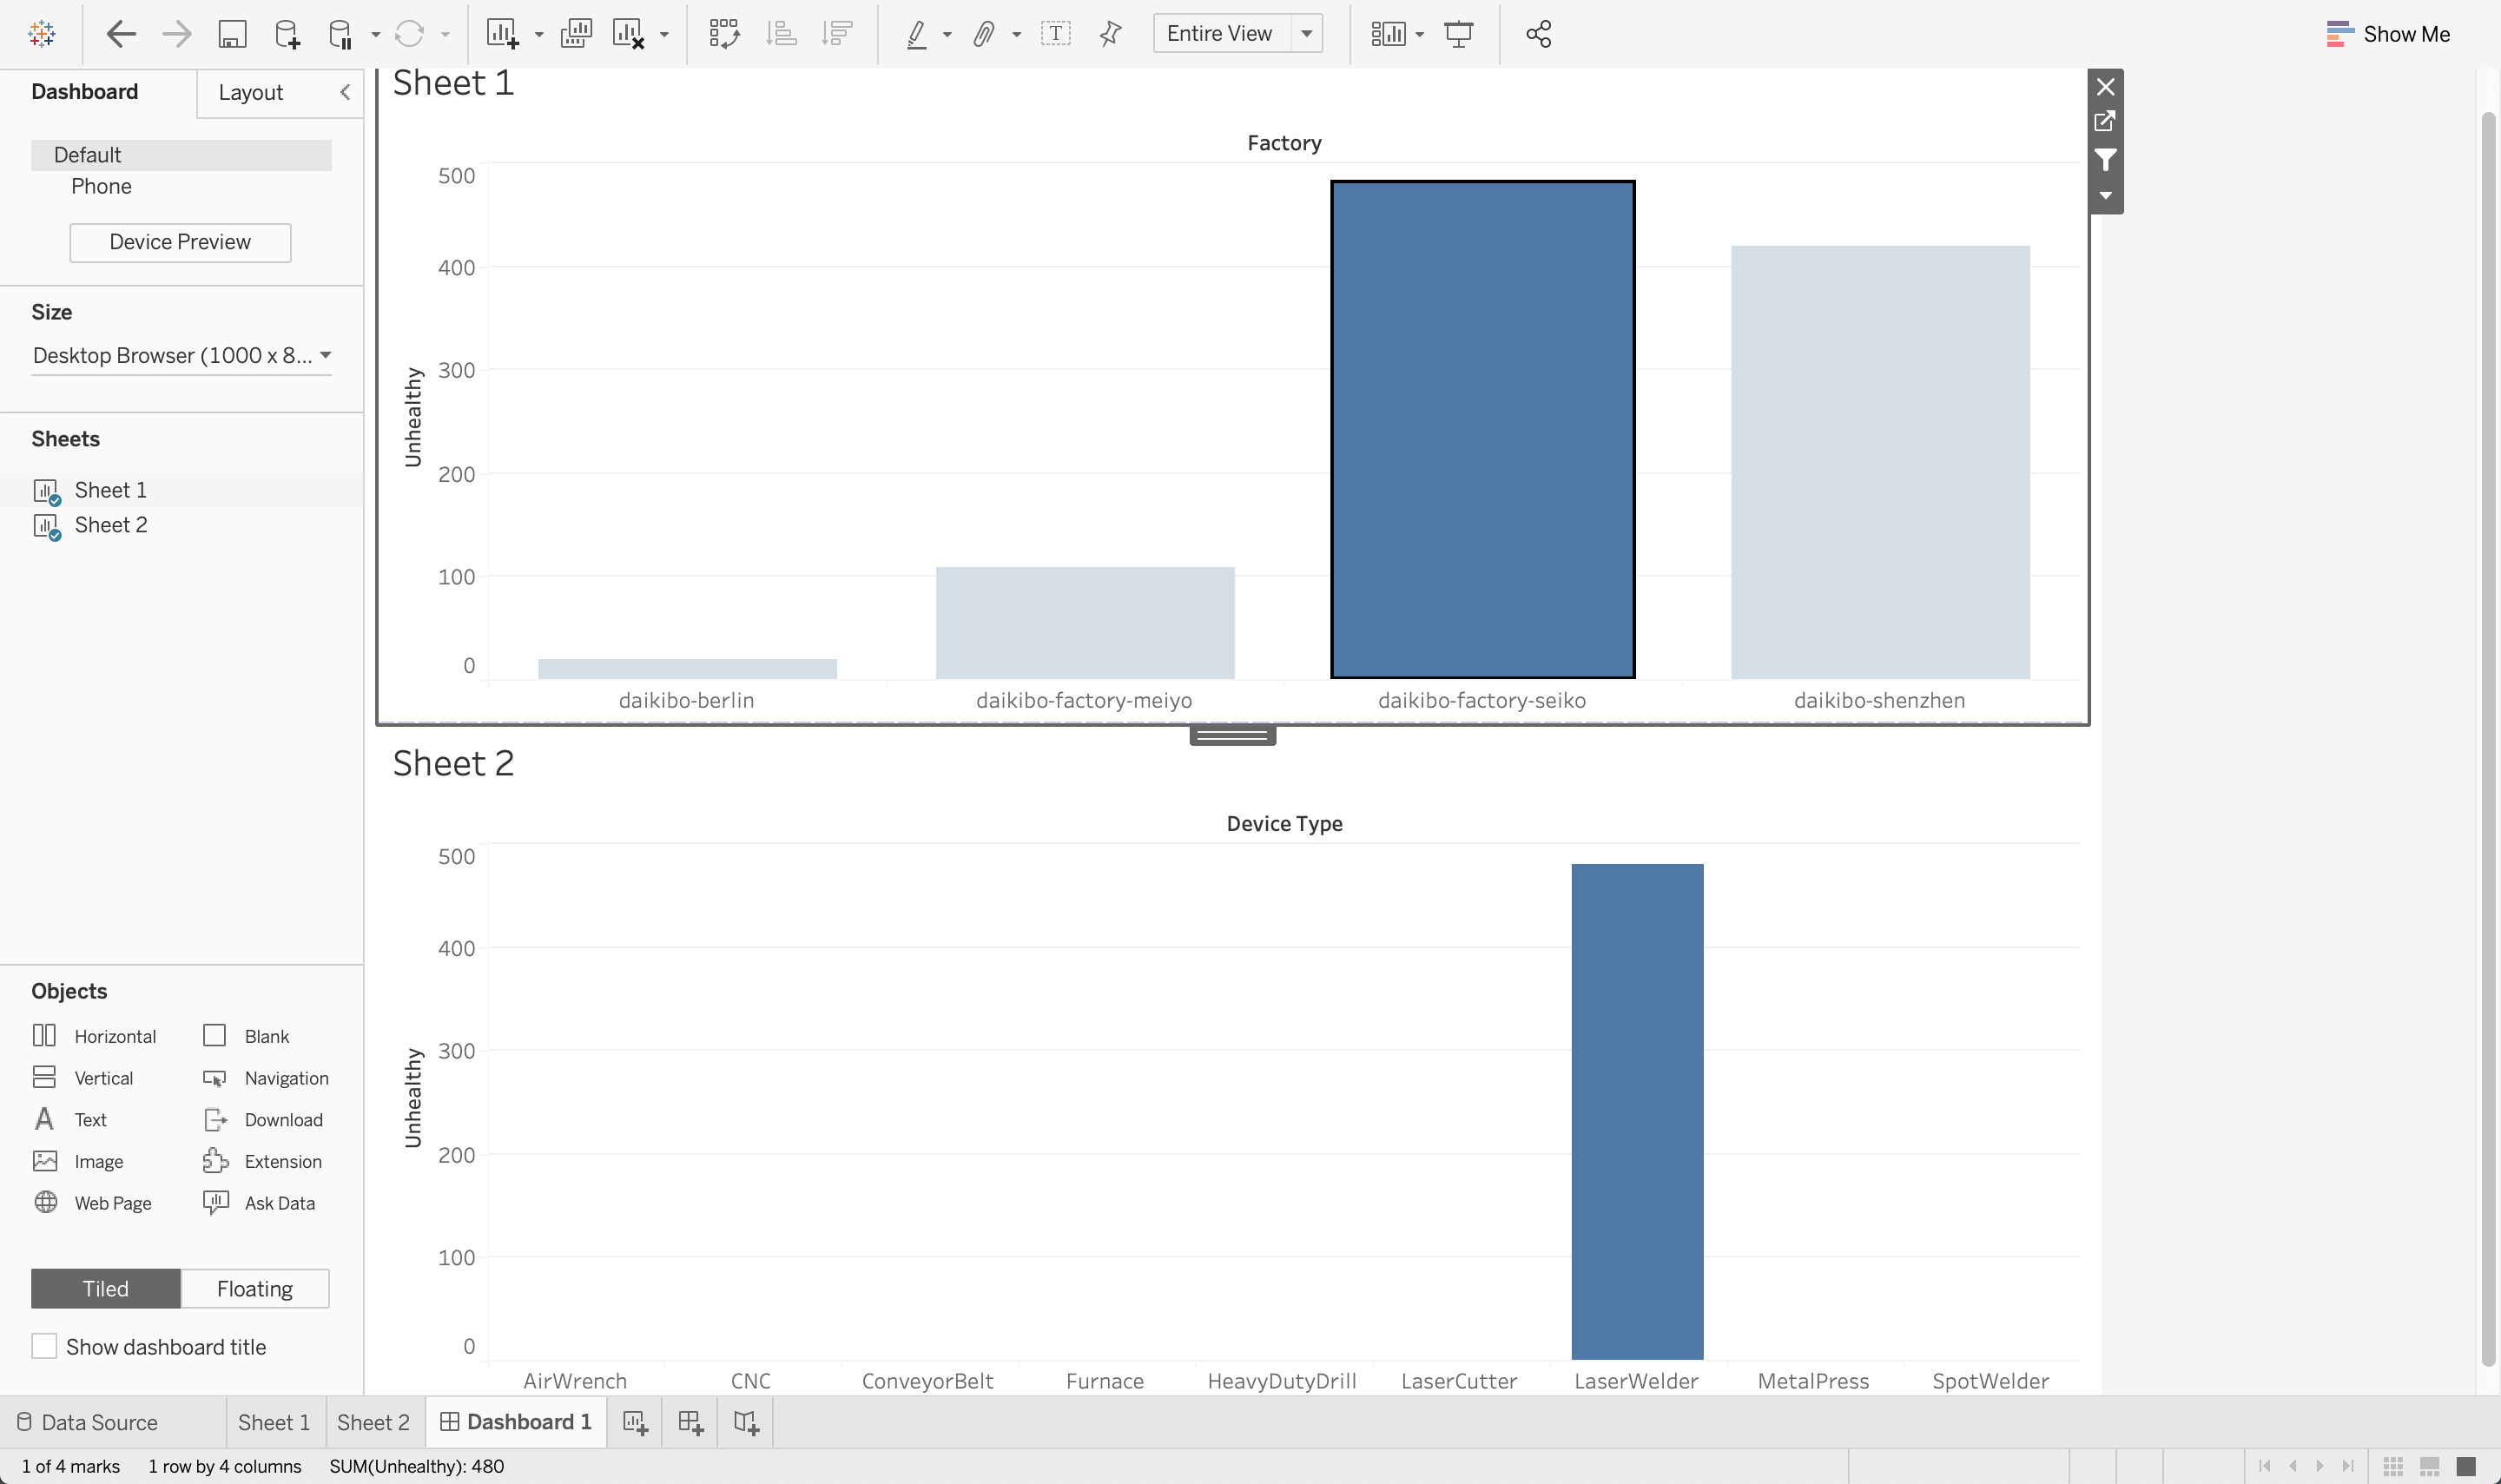

This screenshot's page, from the dashboard's own definition file:
{"tool":"tableau","page":{"name":"Dashboard 1","canvas":[650,860],"ordinal":0},"visuals":[{"type":"worksheet","title":"Sheet 1","mark":"Automatic","rows":["Calculation_1647191594905473024"],"cols":["factory"],"box":[8,8,634,422]},{"type":"worksheet","title":"Sheet 2","mark":"Automatic","rows":["Calculation_1647191594905473024"],"cols":["deviceType"],"box":[8,430,634,422]}]}

Visuals, with their boxes on the page's 650x860 design canvas (x1, y1, x2, y2). These are canvas units, not pixel positions in the 2501x1484 screenshot, which may show the page scaled, cropped or inside an application window:
"Sheet 1" worksheet: pyautogui.locateOnScreen(8, 8, 642, 430)
"Sheet 2" worksheet: pyautogui.locateOnScreen(8, 430, 642, 852)
